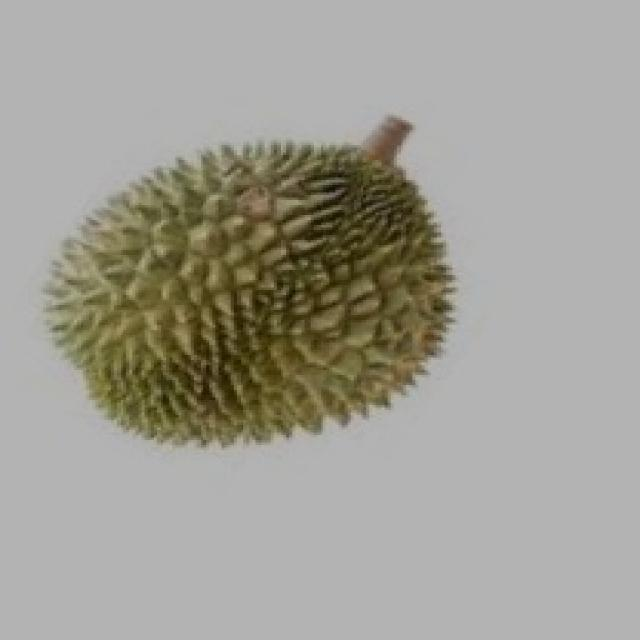fruit: (3, 95, 388, 500)
